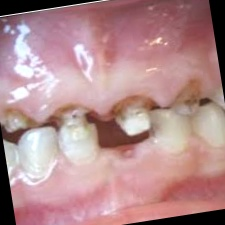Caries: (109, 89, 165, 120), (46, 104, 103, 133), (169, 78, 205, 113), (5, 107, 49, 134)
